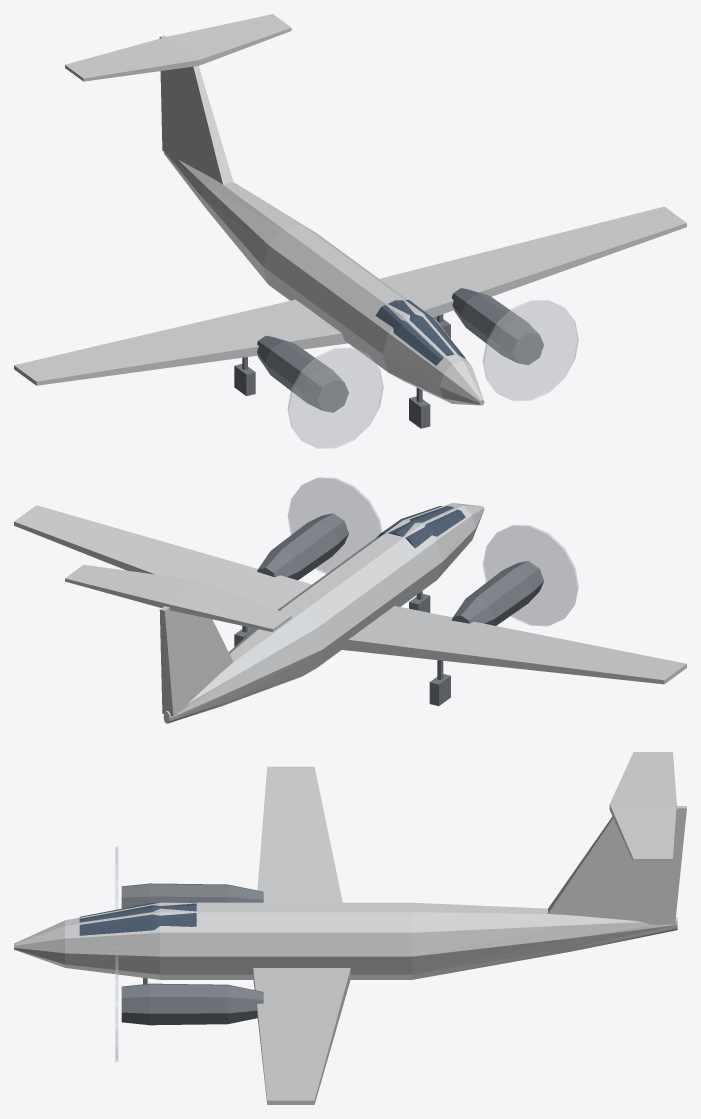
Rendered from turboprop-twin.glb.
The picture shows the model from 3 angles, top to bottom: view 1: azimuth 30°, elevation 25°; view 2: azimuth 150°, elevation 25°; view 3: azimuth 270°, elevation 25°; orthographic projection. The views are drawn at different scales.
Visible parts, largest first — view 1: turboprop-twin; view 2: turboprop-twin; view 3: turboprop-twin.
Part boxes in pixels (x1,y1,x2,y2): turboprop-twin: (14,14,686,448); turboprop-twin: (14,477,686,723); turboprop-twin: (14,752,686,1104).
Size of the model in its own units: 1 by 0.2963 by 0.8516.
